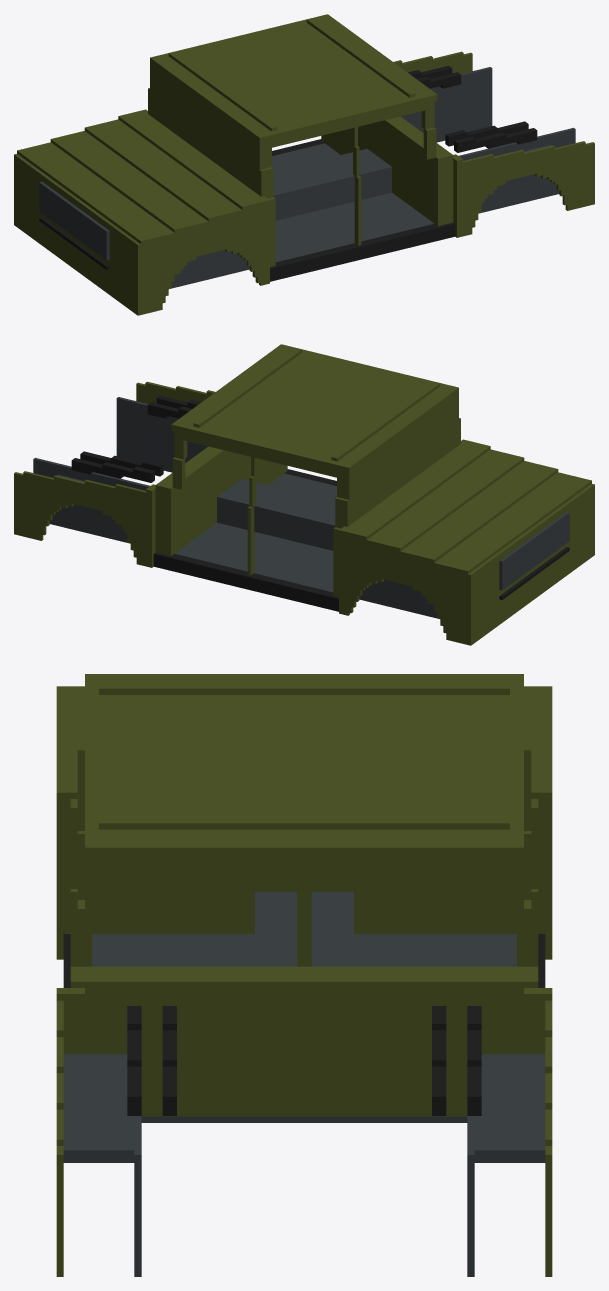
File: utility_4x4_hull.glb
The picture shows the model from 3 angles, top to bottom: view 1: azimuth 30°, elevation 25°; view 2: azimuth 150°, elevation 25°; view 3: azimuth 270°, elevation 25°; orthographic projection. The views are drawn at different scales.
Visible parts, largest first — view 1: body:compound; view 2: body:compound; view 3: body:compound.
Boxes of the visible parts, bbox=[...] form: body:compound: bbox=[14, 14, 594, 315]; body:compound: bbox=[14, 344, 594, 645]; body:compound: bbox=[56, 674, 552, 1276].
Size of the model in its own units: 4.69 by 1.41 by 2.19.
